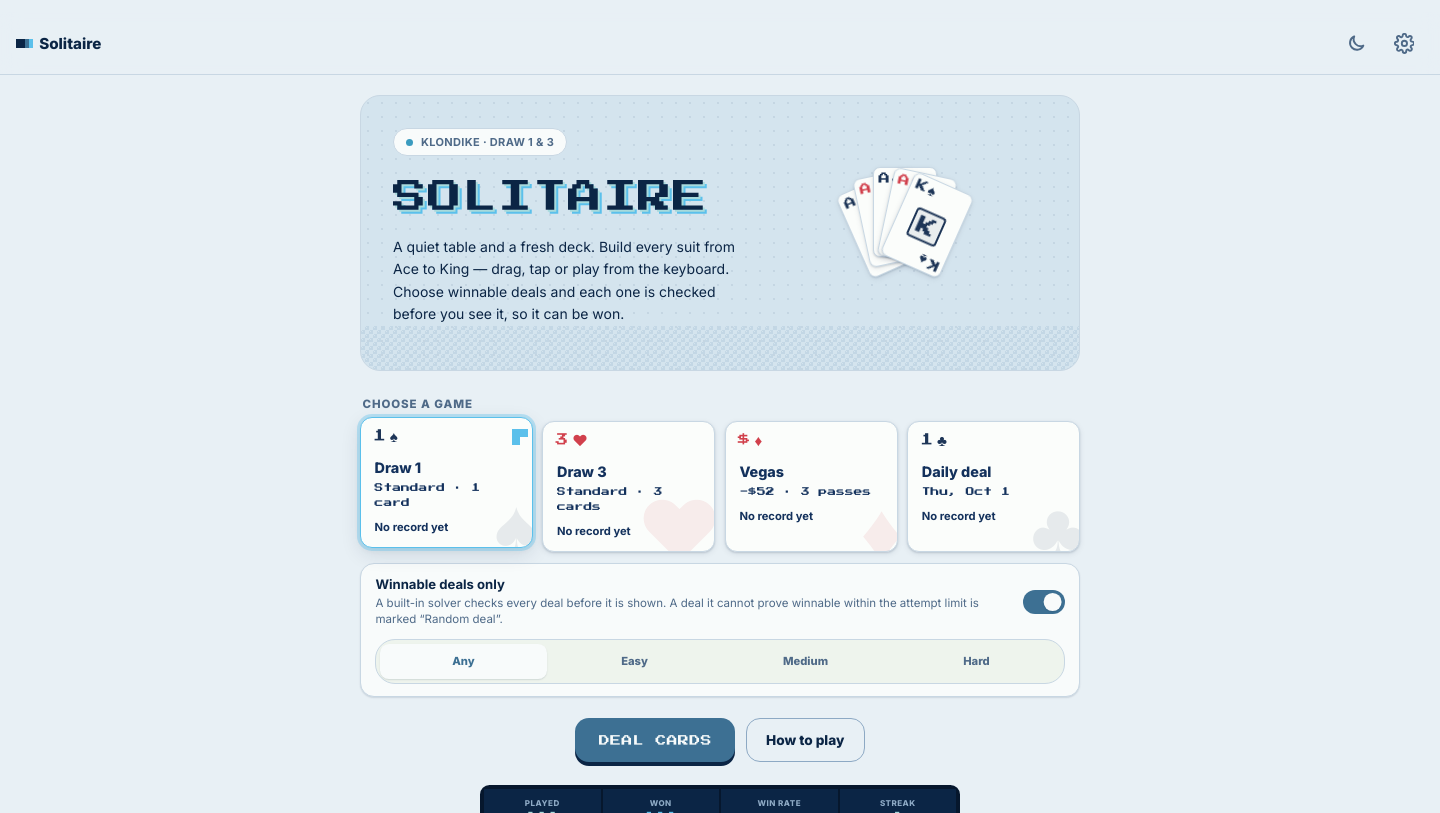
it: application shell navigation › starts a game in the selected mode and shows Game when the start control is activated by pointer
Click the button "Deal cards": [656, 740] box [576,718,736,762]
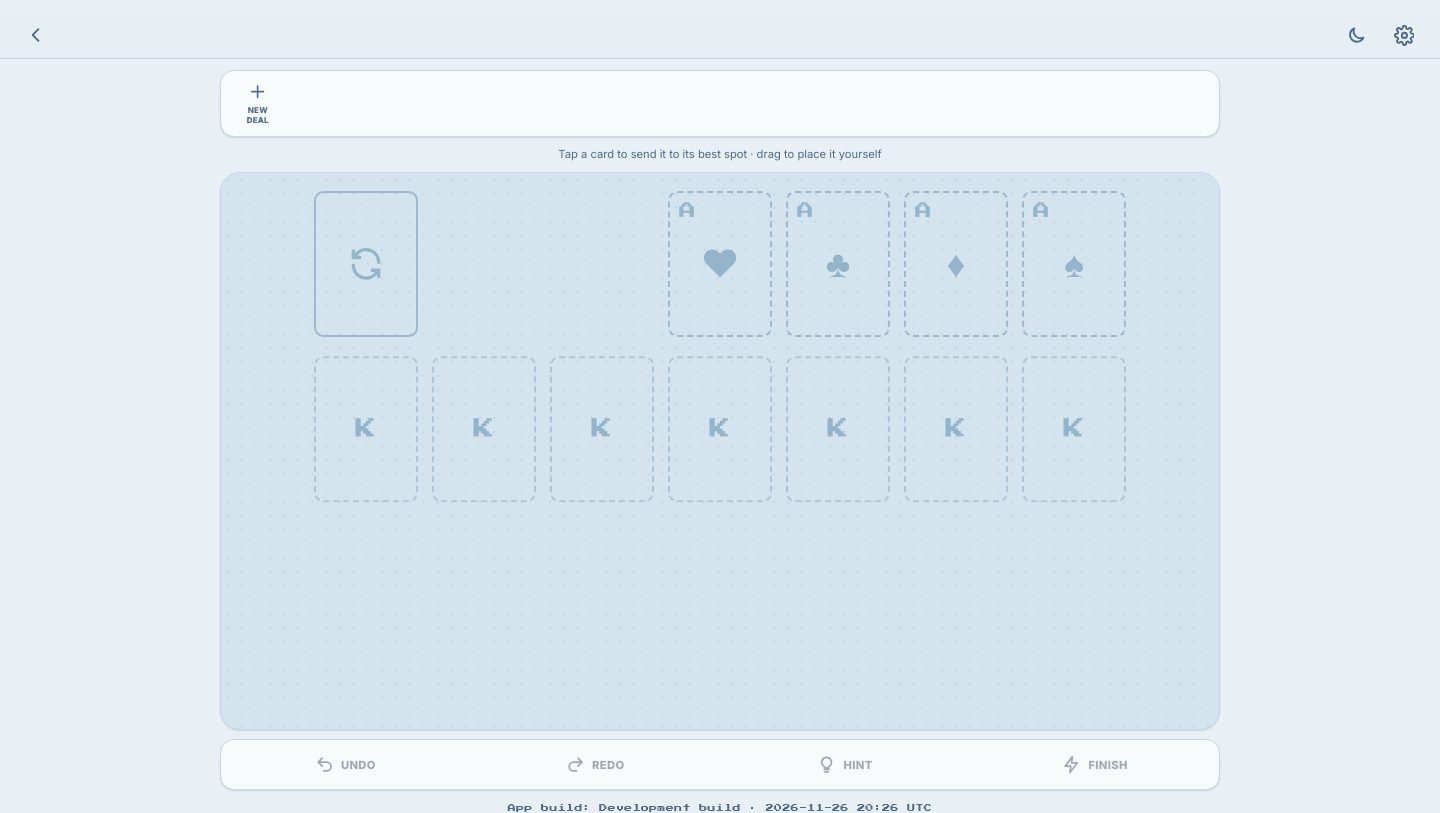
Expected: the button named "back to home" is shown, [16,15,56,55]
Expected: the button "Deal cards" is gone
